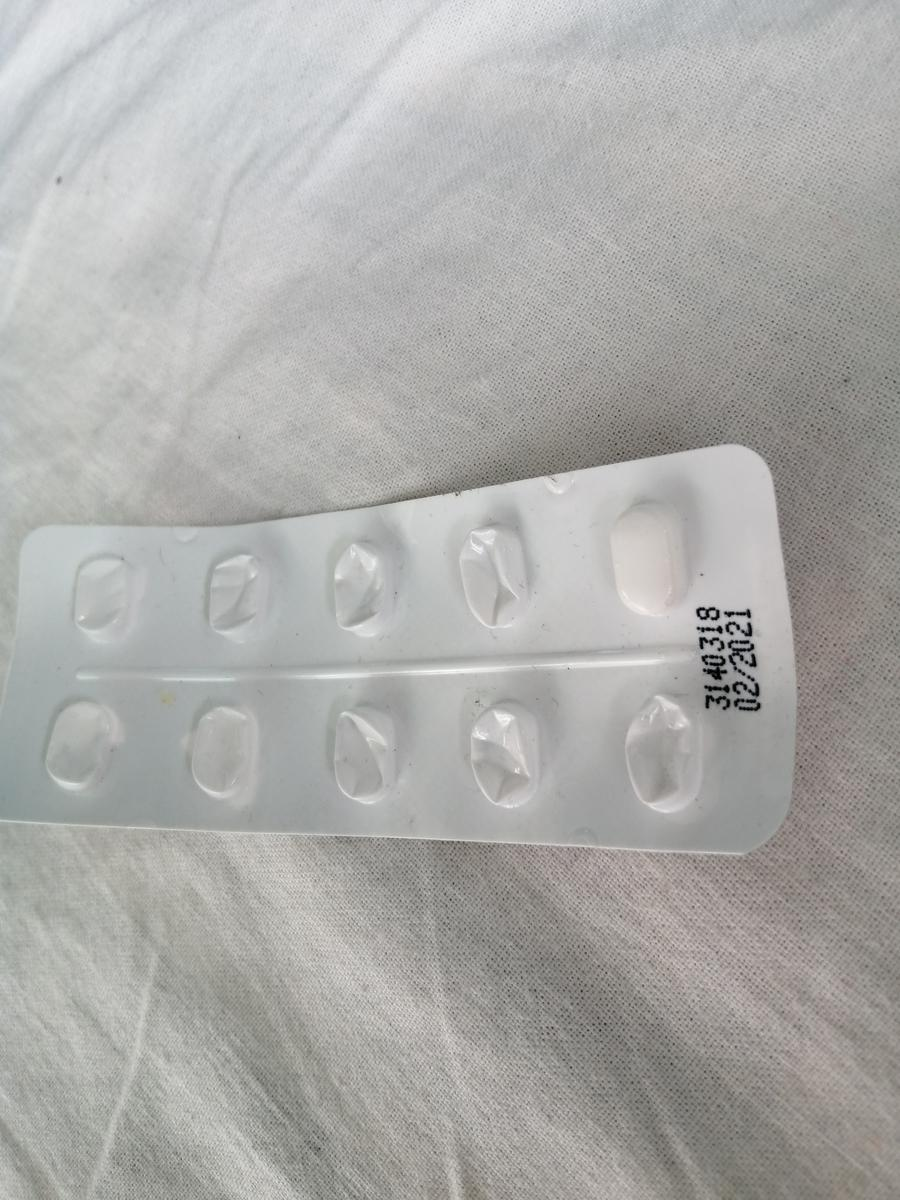tablet: (601, 497, 701, 621)
